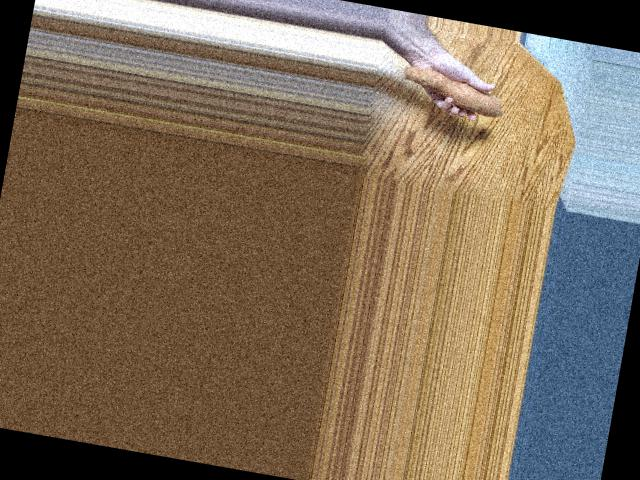sweet_potato: (401, 64, 510, 119)
